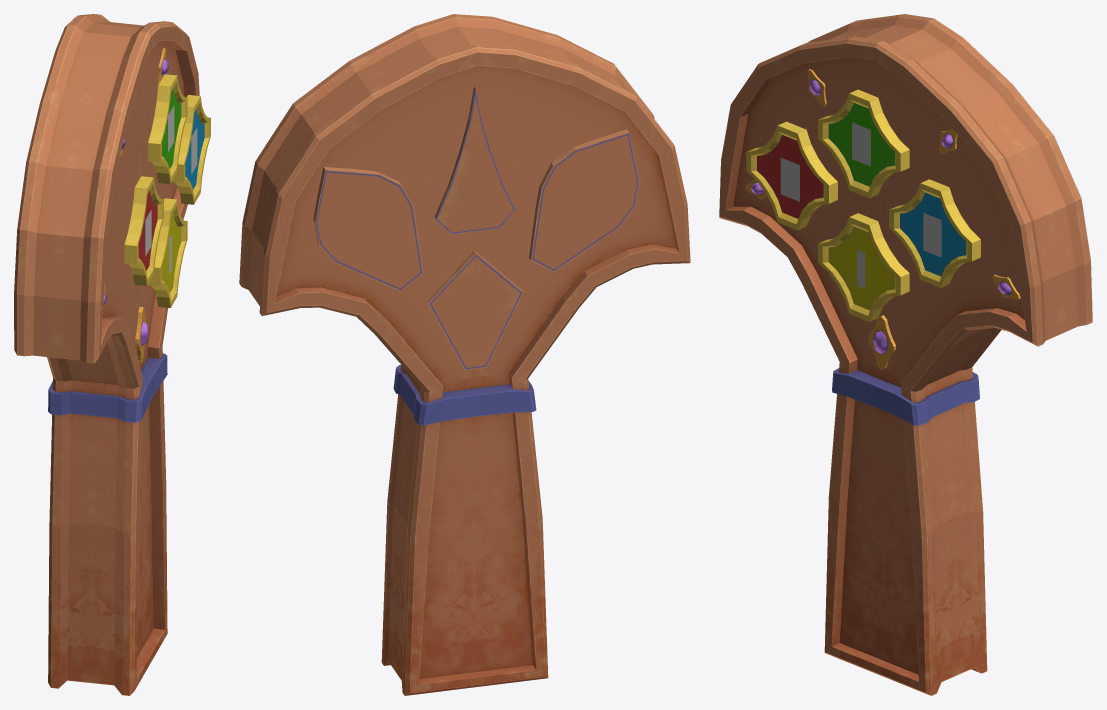
The model's file is SM_Plate_001.fbx.
The picture shows the model from 3 angles, left to right: view 1: azimuth 30°, elevation 25°; view 2: azimuth 150°, elevation 25°; view 3: azimuth 270°, elevation 25°; orthographic projection.
Parts seen in each view (by area): view 1: SM_Plate_001, Plaque_Rouge, Plaque_Verte, Plaque_Jaune, Plaque_bleu, SM_Gem_001; view 2: SM_Plate_001, SM_Symbole_001; view 3: SM_Plate_001, Plaque_Jaune, Plaque_bleu, Plaque_Rouge, Plaque_Verte, SM_Gem_001, Text__TMP_, Text__TMP__2, Text__TMP__3.
Boxes of the visible parts, left/top/right/bottom form: SM_Plate_001: left=14, top=14, right=199, bottom=695; Plaque_Rouge: left=124, top=176, right=163, bottom=285; Plaque_Verte: left=148, top=74, right=187, bottom=183; Plaque_Jaune: left=148, top=198, right=187, bottom=307; Plaque_bleu: left=172, top=95, right=210, bottom=204; SM_Gem_001: left=103, top=48, right=168, bottom=361; SM_Plate_001: left=239, top=14, right=690, bottom=695; SM_Symbole_001: left=313, top=86, right=638, bottom=370; SM_Plate_001: left=719, top=14, right=1092, bottom=695; Plaque_Jaune: left=818, top=213, right=909, bottom=321; Plaque_bleu: left=889, top=179, right=980, bottom=287; Plaque_Rouge: left=746, top=121, right=837, bottom=230; Plaque_Verte: left=818, top=89, right=909, bottom=198; SM_Gem_001: left=745, top=69, right=1020, bottom=370; Text__TMP_: left=780, top=157, right=799, bottom=201; Text__TMP__2: left=923, top=213, right=941, bottom=257; Text__TMP__3: left=852, top=122, right=870, bottom=166.
Bounding box in the file's own units: 90.87 × 175 × 93.79.
